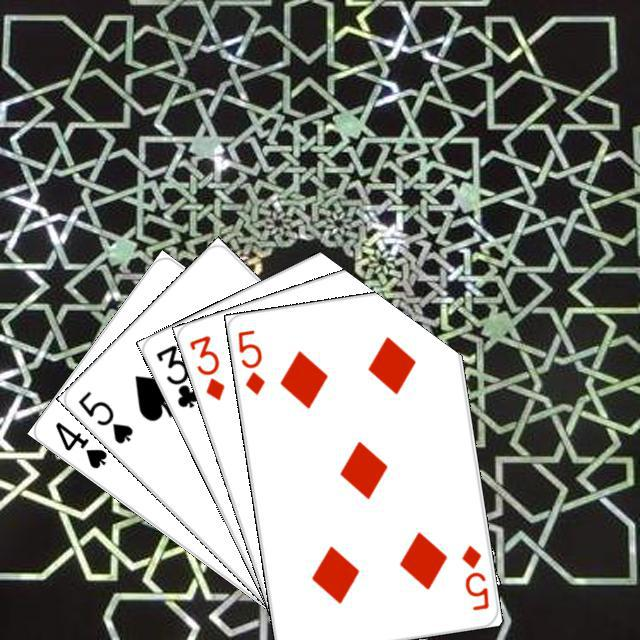3c: (150, 339, 201, 410)
3d: (184, 330, 227, 402)
4s: (50, 416, 109, 471)
5d: (232, 324, 266, 397), (457, 540, 491, 612)
5s: (73, 385, 135, 446)
